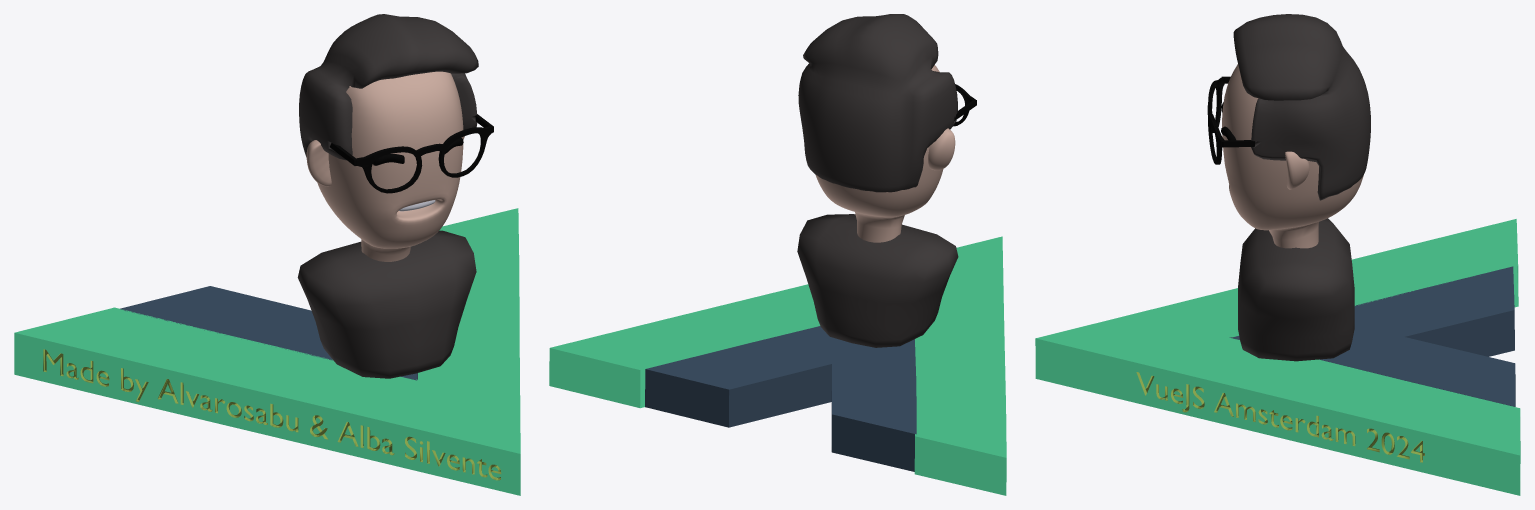
File: evan.glb
The picture shows the model from 3 angles, left to right: view 1: azimuth 30°, elevation 25°; view 2: azimuth 150°, elevation 25°; view 3: azimuth 270°, elevation 25°; orthographic projection. The views are drawn at different scales.
Parts seen in each view (by area): view 1: VuePlanet.001, Head.005, Head.004, Hair2.001, Accesory.Glasses.001, Ears.001; view 2: VuePlanet.001, Hair2.001, Head.005, Head.004, Ears.001; view 3: VuePlanet.001, Hair2.001, Head.005, Head.004, Accesory.Glasses.001, Ears.001.
Part boxes in pixels (x1,y1,x2,y2): VuePlanet.001: [14, 208, 520, 495]; Head.005: [297, 230, 476, 378]; Head.004: [317, 71, 463, 261]; Hair2.001: [299, 14, 478, 160]; Accesory.Glasses.001: [330, 114, 493, 193]; Ears.001: [306, 136, 464, 186]; VuePlanet.001: [549, 236, 1006, 495]; Hair2.001: [798, 14, 957, 192]; Head.005: [797, 214, 958, 347]; Head.004: [815, 65, 943, 242]; Ears.001: [928, 128, 955, 170]; VuePlanet.001: [1035, 219, 1520, 495]; Hair2.001: [1233, 14, 1370, 200]; Head.005: [1238, 218, 1354, 361]; Head.004: [1222, 64, 1363, 248]; Accesory.Glasses.001: [1207, 76, 1255, 164]; Ears.001: [1285, 151, 1309, 189].
Size of the model in its own units: 5.32 by 3.79 by 4.6.
